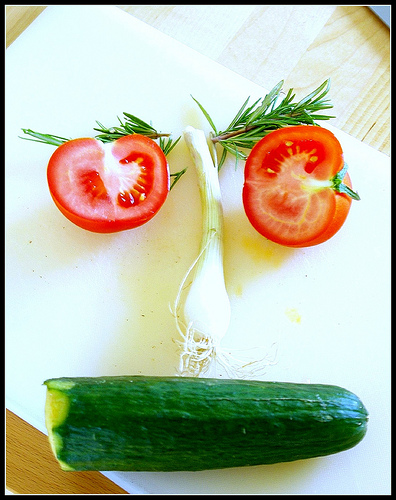cucumber: (45, 375, 373, 473)
